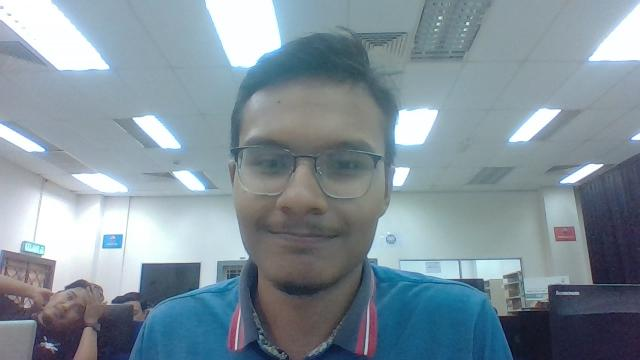senang: (228, 67, 416, 306)
